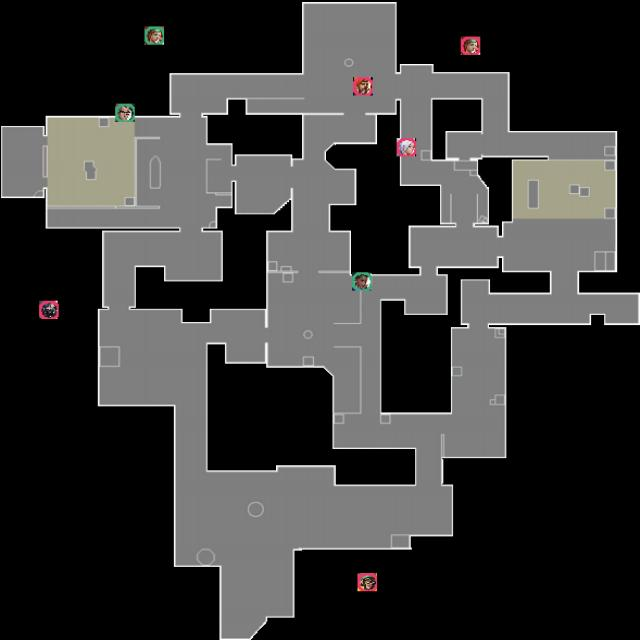atk_brimstone: (353, 77, 373, 96)
atk_jett: (397, 138, 416, 157)
atk_killjoy: (358, 573, 377, 591)
atk_skye: (461, 36, 480, 55)
atk_viper: (39, 301, 59, 319)
def_astra: (352, 272, 372, 291)
def_chamber: (115, 104, 135, 122)
def_skye: (145, 26, 164, 45)
